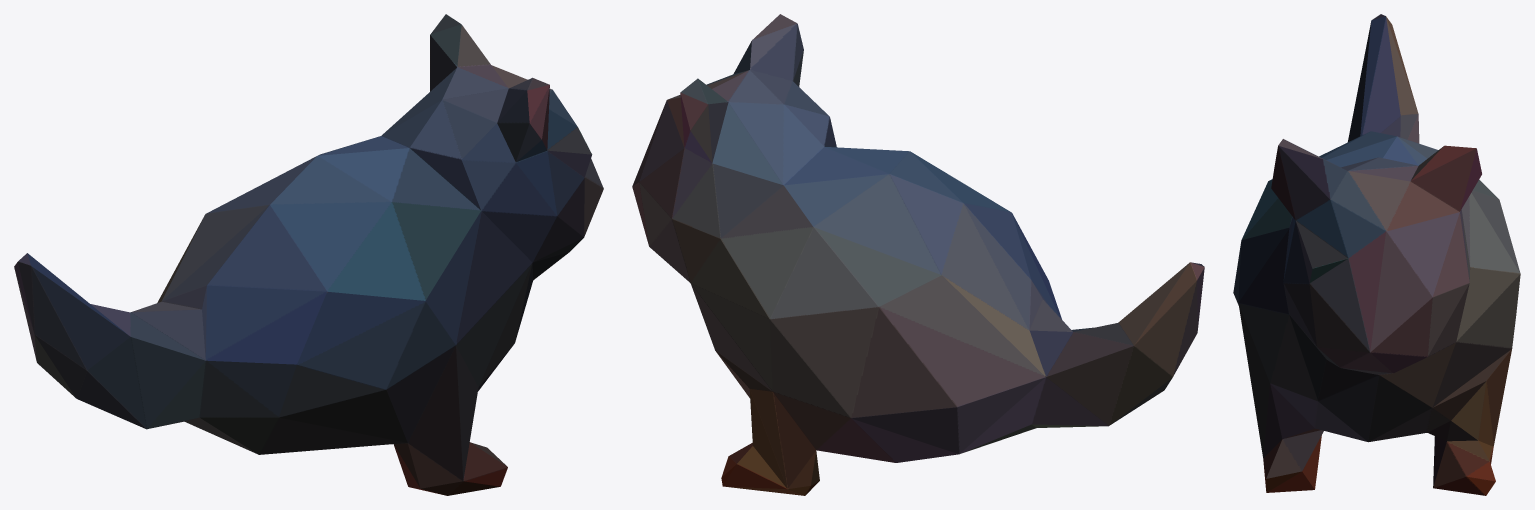
Rendered from SpecieModel2.fbx.
The picture shows the model from 3 angles, left to right: view 1: azimuth 30°, elevation 25°; view 2: azimuth 150°, elevation 25°; view 3: azimuth 270°, elevation 25°; orthographic projection. The views are drawn at different scales.
Visible parts, largest first — view 1: Mesh_0; view 2: Mesh_0; view 3: Mesh_0.
Part boxes in pixels (<box>): Mesh_0: <box>14,14,603,495</box>; Mesh_0: <box>632,14,1204,495</box>; Mesh_0: <box>1233,14,1520,495</box>.
Size of the model in its own units: 164 by 104 by 72.12.
Materials: 1 (1 with a texture image).
